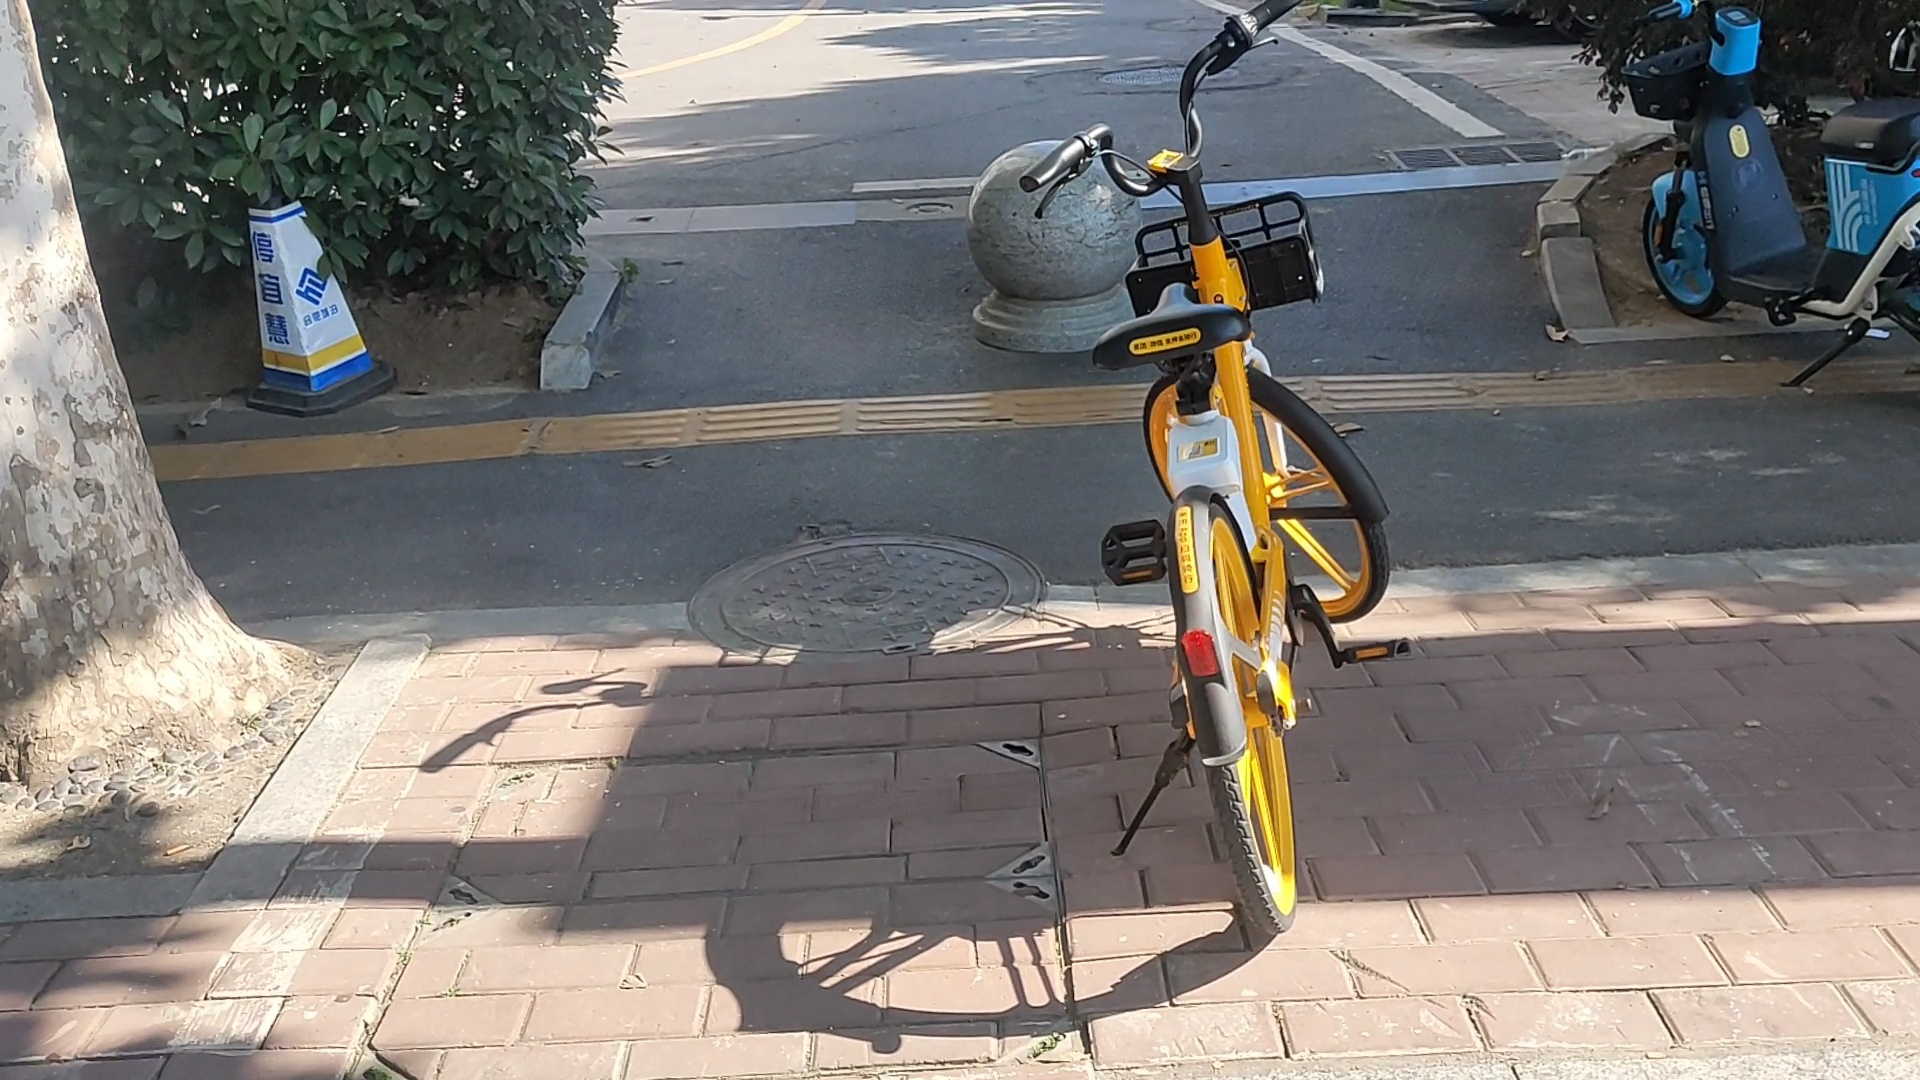non-vehicle: (1015, 1, 1404, 945), (1611, 0, 1920, 425)
